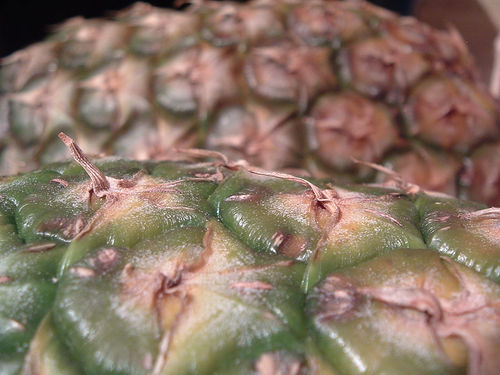pineapple: (0, 129, 499, 374), (1, 1, 499, 206)
